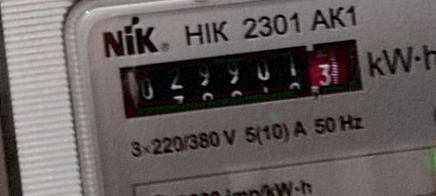0: (136, 73, 157, 102), (253, 53, 272, 84)
1: (284, 49, 300, 78)
2: (165, 64, 186, 92)
3: (314, 60, 334, 88)
9: (195, 60, 214, 89), (225, 58, 242, 86)
screen: (108, 28, 375, 130)
